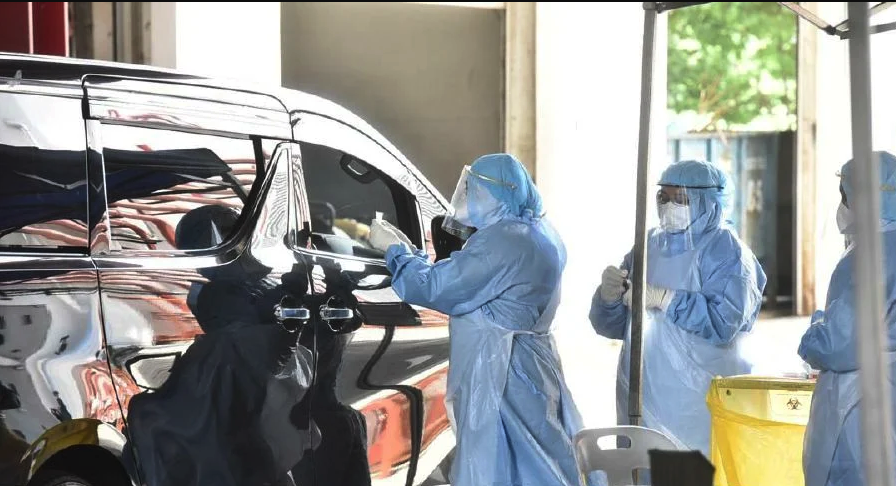Coverall: (397, 154, 581, 486), (612, 156, 771, 486), (803, 148, 896, 486)
Face_Shield: (434, 157, 496, 239), (648, 178, 709, 255)
Gloves: (623, 280, 677, 308), (368, 220, 411, 254), (599, 265, 629, 307)
with_mask: (657, 188, 691, 235), (828, 182, 855, 240)
